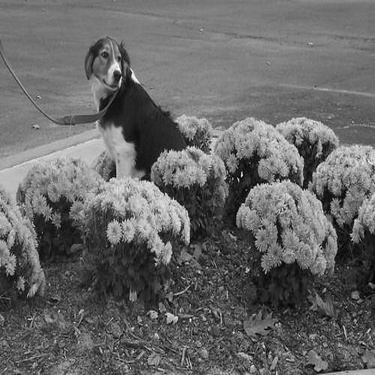dog: (74, 31, 194, 184)
